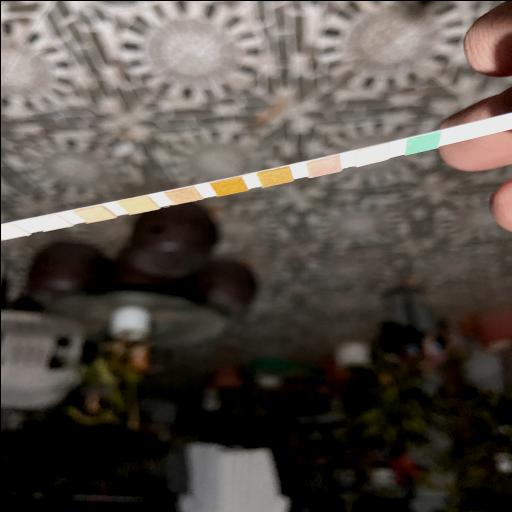Bilirubin: (357, 149, 388, 158)
Blood: (217, 180, 243, 191)
Glucose: (406, 138, 436, 146)
Ketone: (306, 162, 340, 170)
Leukocytes: (0, 224, 12, 238)
Nitrite: (40, 217, 56, 228)
Protein: (125, 200, 145, 210)
SpGravity: (260, 172, 292, 180)
Urobilinogen: (86, 208, 101, 220)
pH: (172, 190, 192, 200)
strip: (0, 111, 512, 240)
